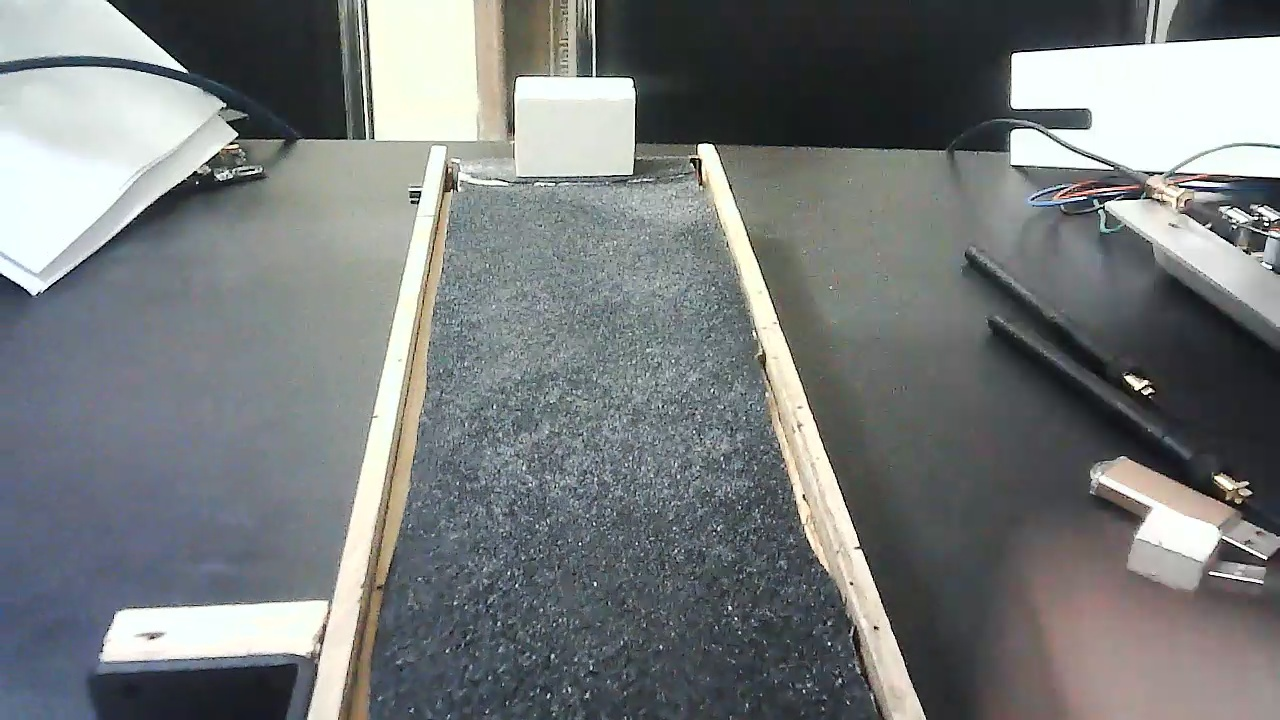BIG: (514, 65, 637, 188)
